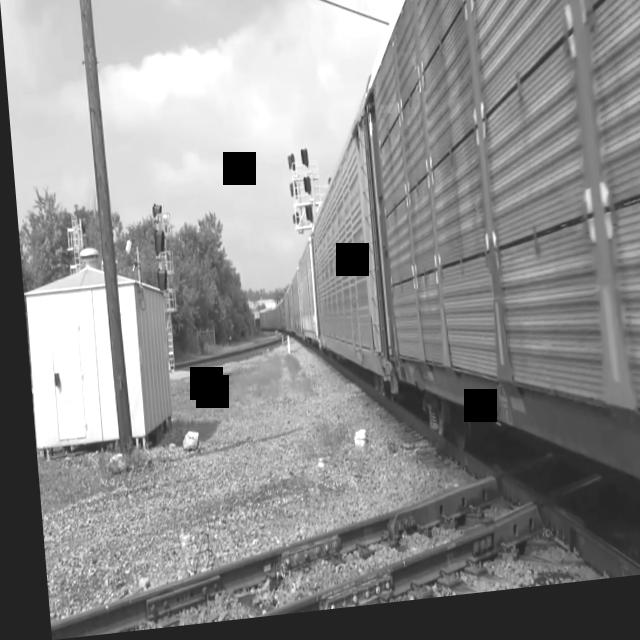autorack: (354, 0, 640, 609), (298, 94, 380, 411)
